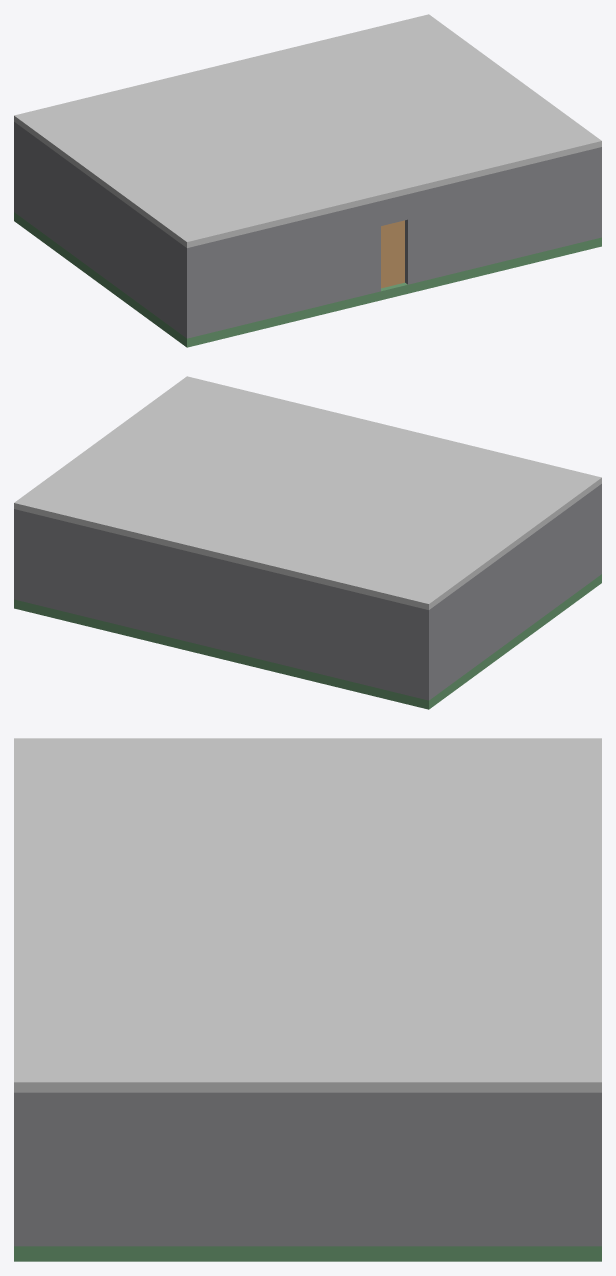
File: key_room.glb
3 views of the same model, one above another, from view 1: azimuth 30°, elevation 25°; view 2: azimuth 150°, elevation 25°; view 3: azimuth 270°, elevation 25° (orthographic). The views are drawn at different scales.
Visible parts, largest first — view 1: Key_Ceiling, Key_Wall_S_1, Key_Wall_S_3, Key_Wall_W_1, Key_Floor, DoorLeaf_floor_2, Key_Wall_S_2; view 2: Key_Ceiling, Key_Wall_N_1, Key_Wall_W_1, Key_Floor; view 3: Key_Ceiling, Key_Wall_E_1, Key_Floor, Key_Wall_N_1, Key_Wall_S_3.
Part boxes in pixels (x1,y1,x2,y2): Key_Ceiling: (14,14,601,247); Key_Wall_S_1: (183,201,380,338); Key_Wall_S_3: (405,147,601,284); Key_Wall_W_1: (17,124,183,335); Key_Floor: (14,212,601,347); DoorLeaf_floor_2: (381,220,404,288); Key_Wall_S_2: (381,194,407,225); Key_Ceiling: (14,376,601,609); Key_Wall_N_1: (14,509,432,700); Key_Wall_W_1: (432,486,598,697); Key_Floor: (14,574,601,709); Key_Ceiling: (14,738,601,1092); Key_Wall_E_1: (25,1092,590,1246); Key_Floor: (14,1246,601,1261); Key_Wall_N_1: (590,1092,601,1246); Key_Wall_S_3: (14,1092,25,1246).
Size of the model in its own units: 14.4 by 3.5 by 10.4.
